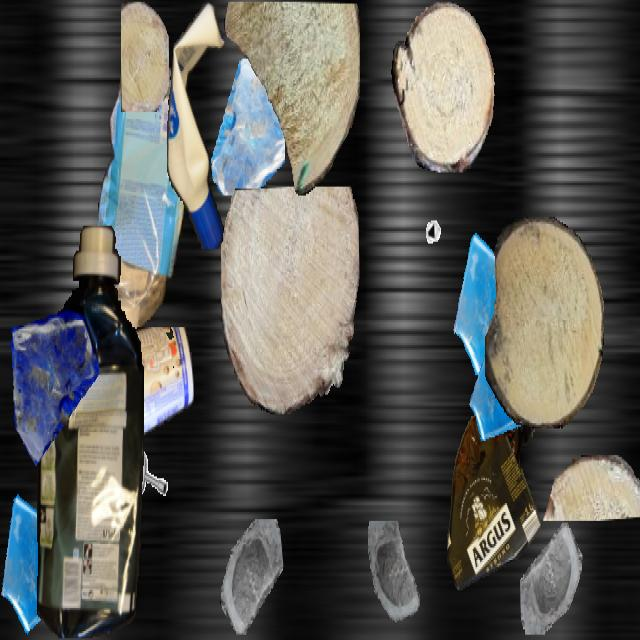glass: (5, 306, 99, 473), (451, 220, 543, 384), (0, 478, 87, 638), (208, 58, 284, 194), (363, 521, 429, 638), (219, 519, 283, 633), (469, 338, 533, 452), (520, 523, 582, 633)
metal: (126, 448, 174, 533), (423, 190, 461, 258)
plastic: (36, 226, 144, 638), (98, 62, 184, 372), (447, 398, 541, 590), (167, 2, 231, 247), (94, 327, 194, 452)
wood: (221, 187, 359, 414), (224, 2, 360, 194), (485, 217, 603, 427), (391, 2, 495, 172), (541, 455, 640, 519), (121, 2, 169, 112)
